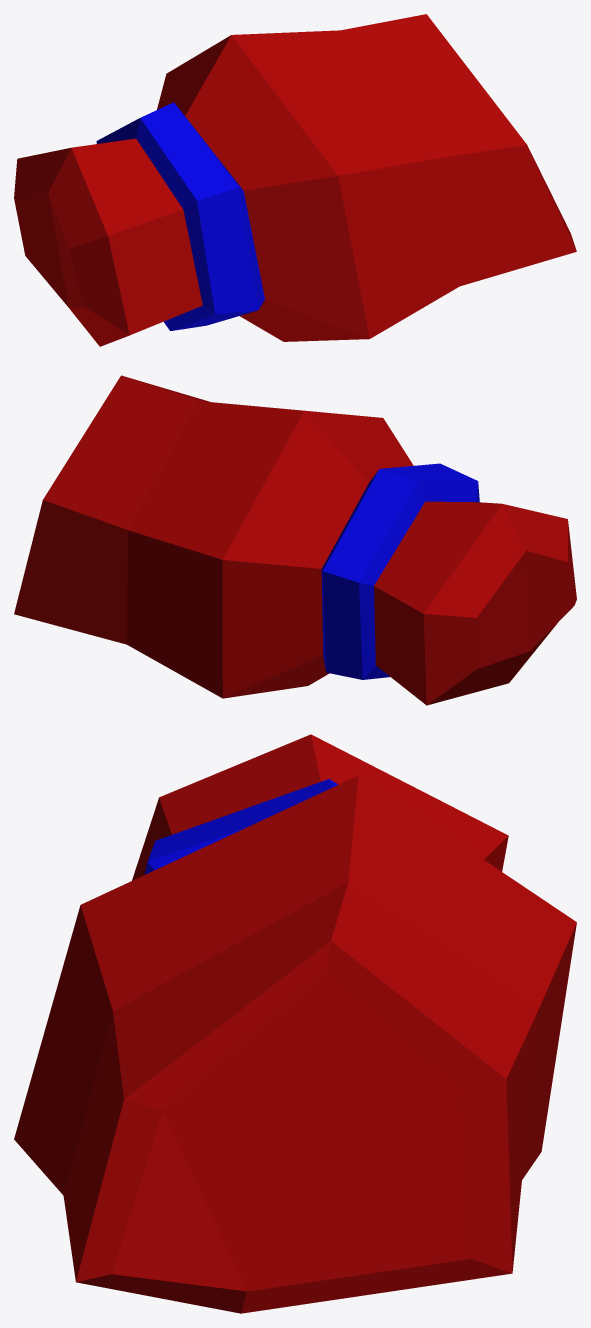
File: Chr_ArmUpperRight_Male_Static_17.fbx
The picture shows the model from 3 angles, top to bottom: view 1: azimuth 30°, elevation 25°; view 2: azimuth 150°, elevation 25°; view 3: azimuth 270°, elevation 25°; orthographic projection. The views are drawn at different scales.
Visible parts, largest first — view 1: Chr_ArmUpperRight_Male_17; view 2: Chr_ArmUpperRight_Male_17; view 3: Chr_ArmUpperRight_Male_17.
Boxes of the visible parts, box(x1,y1,x2,y2) form: Chr_ArmUpperRight_Male_17: box(14, 14, 576, 346); Chr_ArmUpperRight_Male_17: box(14, 375, 576, 705); Chr_ArmUpperRight_Male_17: box(14, 734, 576, 1313).
Bounding box in the file's own units: 32.55 × 19.48 × 22.38.
